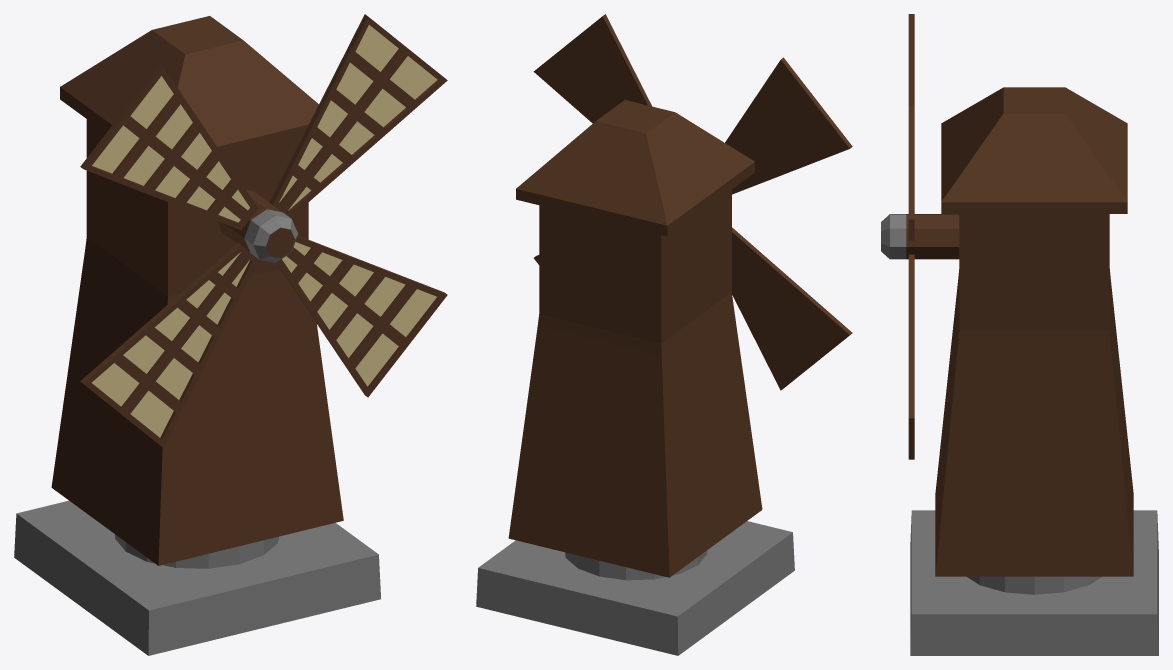
The model's file is Windmill.fbx.
3 views of the same model, side by side, from view 1: azimuth 30°, elevation 25°; view 2: azimuth 150°, elevation 25°; view 3: azimuth 270°, elevation 25° (orthographic). The views are drawn at different scales.
Parts seen in each view (by area): view 1: Windmill, Wings, WindmillBase; view 2: Windmill, Wings, WindmillBase; view 3: Windmill, WindmillBase, Wings.
Boxes of the visible parts, x1,y1,x2,y2 form: Windmill: (51, 16, 343, 565); Wings: (80, 14, 447, 447); WindmillBase: (14, 500, 380, 655); Windmill: (508, 100, 762, 577); Wings: (533, 14, 852, 390); WindmillBase: (476, 521, 794, 655); Windmill: (935, 87, 1133, 576); WindmillBase: (910, 510, 1158, 655); Wings: (881, 14, 959, 459).
Bounding box in the file's own units: 378 × 581 × 269.
